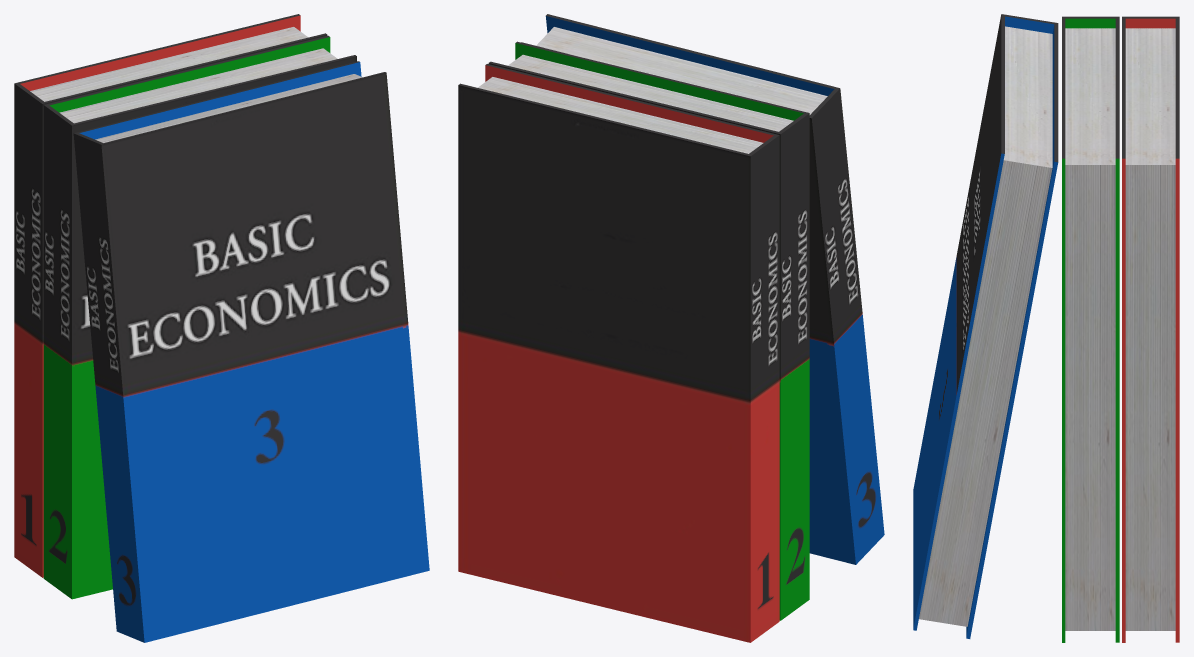
The model's file is Books 1.FBX.
3 views of the same model, side by side, from view 1: azimuth 30°, elevation 25°; view 2: azimuth 150°, elevation 25°; view 3: azimuth 270°, elevation 25° (orthographic). The views are drawn at different scales.
Parts seen in each view (by area): view 1: Book 3, Book 2, Book 1; view 2: Book 1, Book 3, Book 2; view 3: Book 3, Book 1, Book 2.
Part boxes in pixels (x1,y1,x2,y2): Book 3: [73, 61, 429, 642]; Book 2: [43, 35, 356, 599]; Book 1: [14, 14, 327, 577]; Book 1: [458, 64, 779, 642]; Book 3: [521, 14, 884, 564]; Book 2: [488, 41, 809, 620]; Book 3: [913, 14, 1058, 638]; Book 1: [1122, 16, 1179, 642]; Book 2: [1062, 16, 1119, 642].
Size of the model in its own units: 15.21 by 24.42 by 12.05.
1 material, 1 textured.
